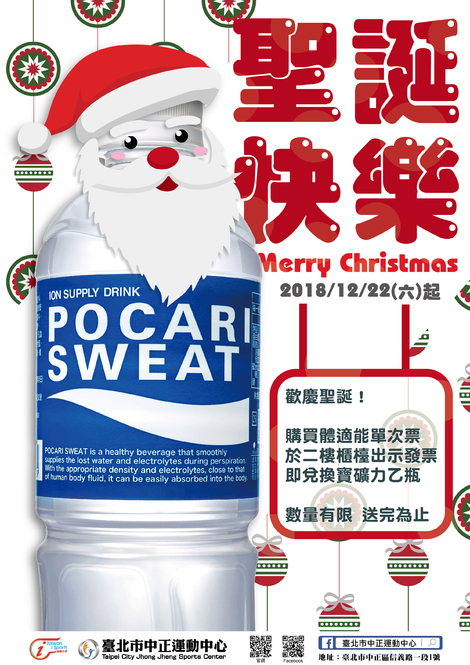POCARI SWEAT: (39, 208, 258, 629)
